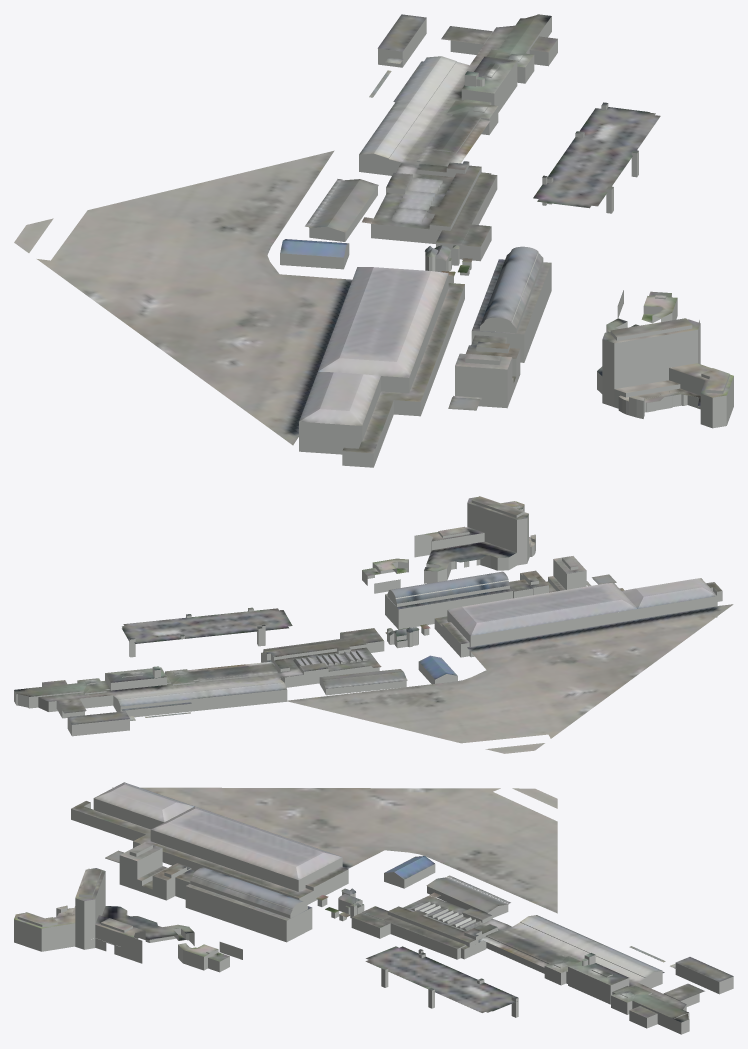
Rendered from LSGG_-2_-3.glb.
The picture shows the model from 3 angles, top to bottom: view 1: azimuth 30°, elevation 25°; view 2: azimuth 150°, elevation 25°; view 3: azimuth 270°, elevation 25°; orthographic projection. The views are drawn at different scales.
Visible parts, largest first — view 1: pavement_LSGG_pavement_4993_2240, building_30e172f34c2ddd4f, building_2746b97b046ad5e3, building_e2449c4b7e7d6816, building_6d116c5deba705b9, building_6ae4ed477b8cf52e, building_2ececa69588a26b3, building_35174f2b07fa6acf, building_4e552cc13c5493ff, building_08ffcbc4274b5166, building_90b5ffbb66541886, building_f73701bfdd47c902 (+2 smaller); view 2: pavement_LSGG_pavement_4993_2240, building_30e172f34c2ddd4f, building_2746b97b046ad5e3, building_6d116c5deba705b9, building_e2449c4b7e7d6816, building_f73701bfdd47c902, building_35174f2b07fa6acf, building_6ae4ed477b8cf52e, building_4e552cc13c5493ff, building_2ececa69588a26b3, building_90b5ffbb66541886, building_08ffcbc4274b5166 (+3 smaller); view 3: pavement_LSGG_pavement_4993_2240, building_30e172f34c2ddd4f, building_2746b97b046ad5e3, building_6d116c5deba705b9, building_e2449c4b7e7d6816, building_4e552cc13c5493ff, building_35174f2b07fa6acf, building_6ae4ed477b8cf52e, building_f73701bfdd47c902, building_90b5ffbb66541886, building_08ffcbc4274b5166, building_2ececa69588a26b3 (+3 smaller).
Boxes of the visible parts, left/top/right/bottom form: pavement_LSGG_pavement_4993_2240: left=14, top=150, right=352, bottom=445; building_30e172f34c2ddd4f: left=299, top=267, right=464, bottom=453; building_2746b97b046ad5e3: left=359, top=14, right=607, bottom=166; building_e2449c4b7e7d6816: left=280, top=161, right=496, bottom=257; building_6d116c5deba705b9: left=448, top=291, right=733, bottom=428; building_6ae4ed477b8cf52e: left=533, top=107, right=660, bottom=207; building_2ececa69588a26b3: left=455, top=246, right=551, bottom=382; building_35174f2b07fa6acf: left=299, top=274, right=464, bottom=467; building_4e552cc13c5493ff: left=455, top=258, right=551, bottom=408; building_08ffcbc4274b5166: left=280, top=162, right=497, bottom=269; building_90b5ffbb66541886: left=448, top=290, right=733, bottom=409; building_f73701bfdd47c902: left=359, top=16, right=608, bottom=175; pavement_LSGG_pavement_4993_2240: left=285, top=604, right=733, bottom=753; building_30e172f34c2ddd4f: left=435, top=578, right=722, bottom=643; building_2746b97b046ad5e3: left=14, top=637, right=286, bottom=706; building_6d116c5deba705b9: left=362, top=500, right=616, bottom=593; building_e2449c4b7e7d6816: left=261, top=628, right=457, bottom=688; building_f73701bfdd47c902: left=14, top=639, right=287, bottom=717; building_35174f2b07fa6acf: left=434, top=587, right=722, bottom=657; building_6ae4ed477b8cf52e: left=122, top=607, right=292, bottom=643; building_4e552cc13c5493ff: left=385, top=558, right=586, bottom=629; building_2ececa69588a26b3: left=385, top=556, right=586, bottom=609; building_90b5ffbb66541886: left=362, top=496, right=616, bottom=586; building_08ffcbc4274b5166: left=261, top=633, right=457, bottom=695; pavement_LSGG_pavement_4993_2240: left=112, top=787, right=557, bottom=913; building_30e172f34c2ddd4f: left=71, top=782, right=348, bottom=898; building_2746b97b046ad5e3: left=481, top=915, right=688, bottom=1022; building_6d116c5deba705b9: left=14, top=858, right=242, bottom=972; building_e2449c4b7e7d6816: left=352, top=856, right=510, bottom=949; building_4e552cc13c5493ff: left=119, top=845, right=312, bottom=942; building_35174f2b07fa6acf: left=71, top=798, right=348, bottom=904; building_6ae4ed477b8cf52e: left=366, top=946, right=517, bottom=1012; building_f73701bfdd47c902: left=486, top=922, right=689, bottom=1034; building_90b5ffbb66541886: left=14, top=850, right=242, bottom=961; building_08ffcbc4274b5166: left=351, top=864, right=508, bottom=959; building_2ececa69588a26b3: left=120, top=842, right=311, bottom=920.
Bounding box in the file's own units: 503 × 51.14 × 652.
Materials: 3 (2 with a texture image).
